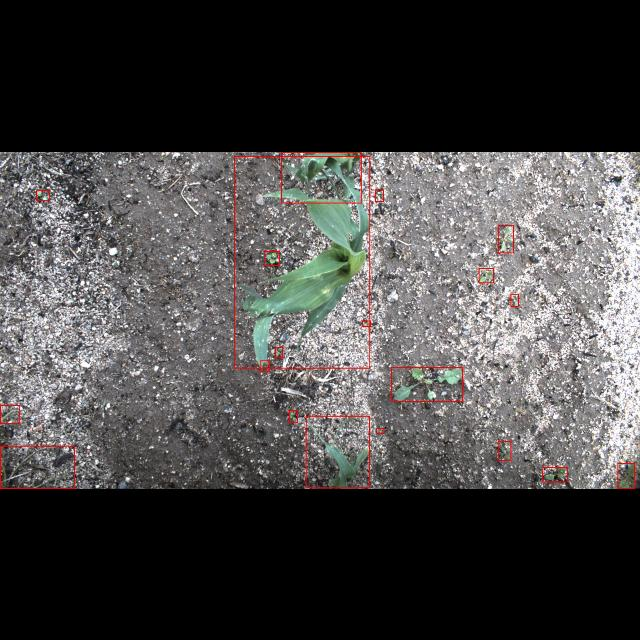crop: (234, 156, 370, 368), (306, 416, 370, 488), (281, 152, 361, 202)
weed: (0, 446, 74, 488), (392, 367, 462, 401), (498, 224, 514, 252), (542, 466, 568, 482), (0, 404, 20, 424), (618, 464, 634, 488), (498, 442, 510, 461), (478, 268, 494, 282), (264, 251, 280, 265), (36, 190, 50, 200), (289, 410, 297, 422), (511, 294, 519, 306), (375, 189, 383, 201), (260, 361, 268, 372), (276, 347, 282, 358), (362, 320, 371, 326), (376, 428, 384, 434)
